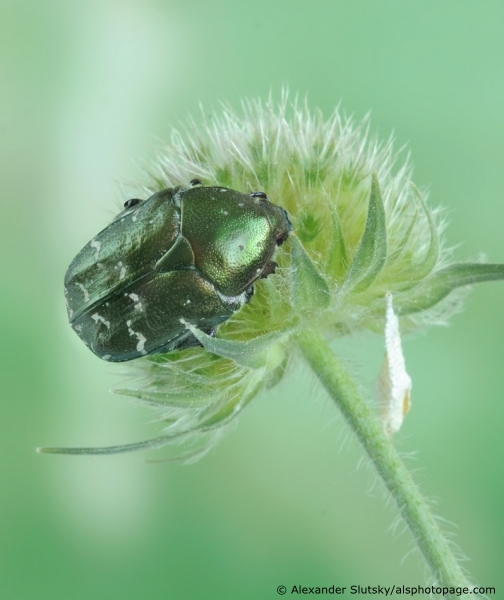Protaetia_metallica: (60, 174, 296, 368)
